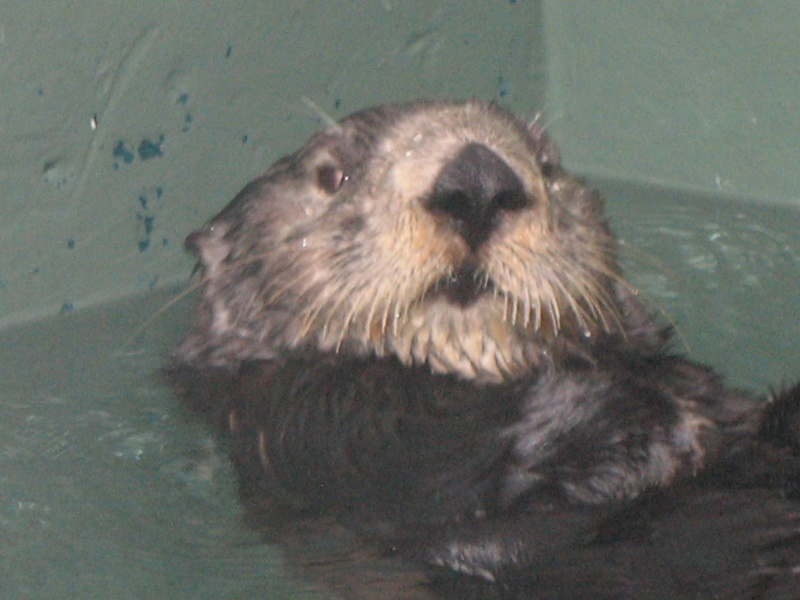minkish: (147, 92, 786, 582)
